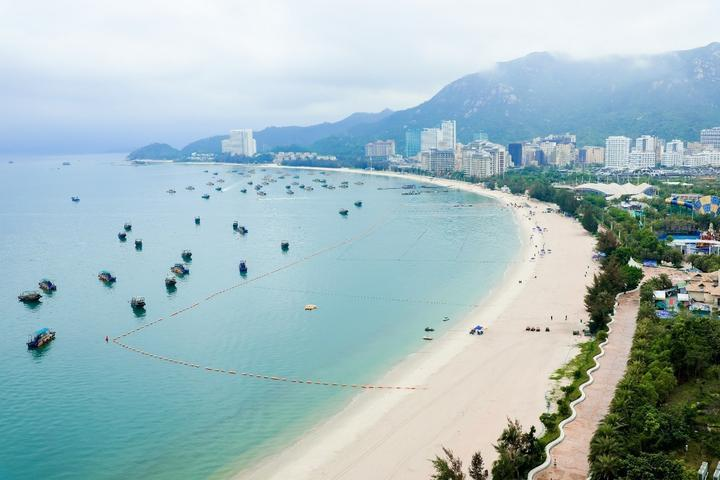mountain: (393, 49, 709, 161)
sea_river: (140, 252, 454, 381), (23, 343, 285, 469)
